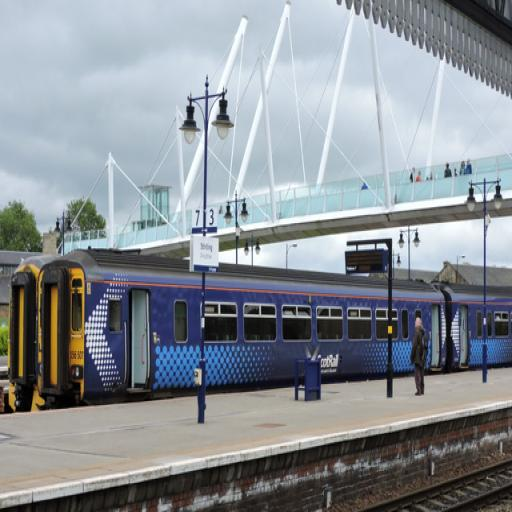platform_edge: (0, 390, 512, 512)
